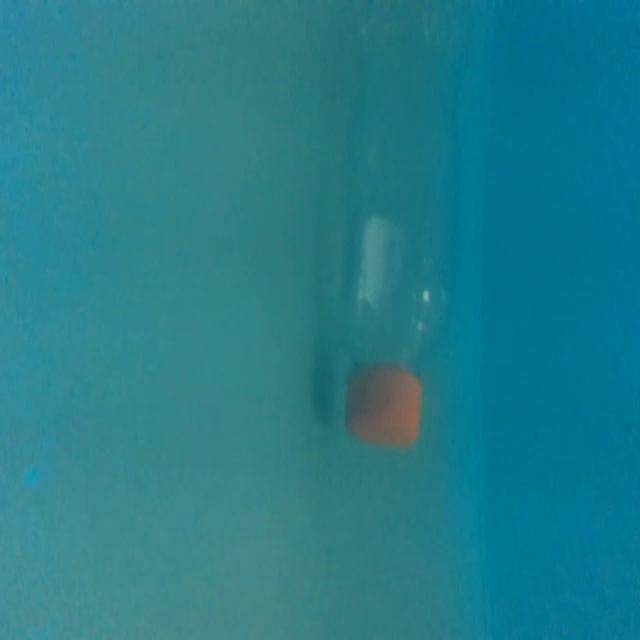plastic bottle: (326, 9, 470, 456)
